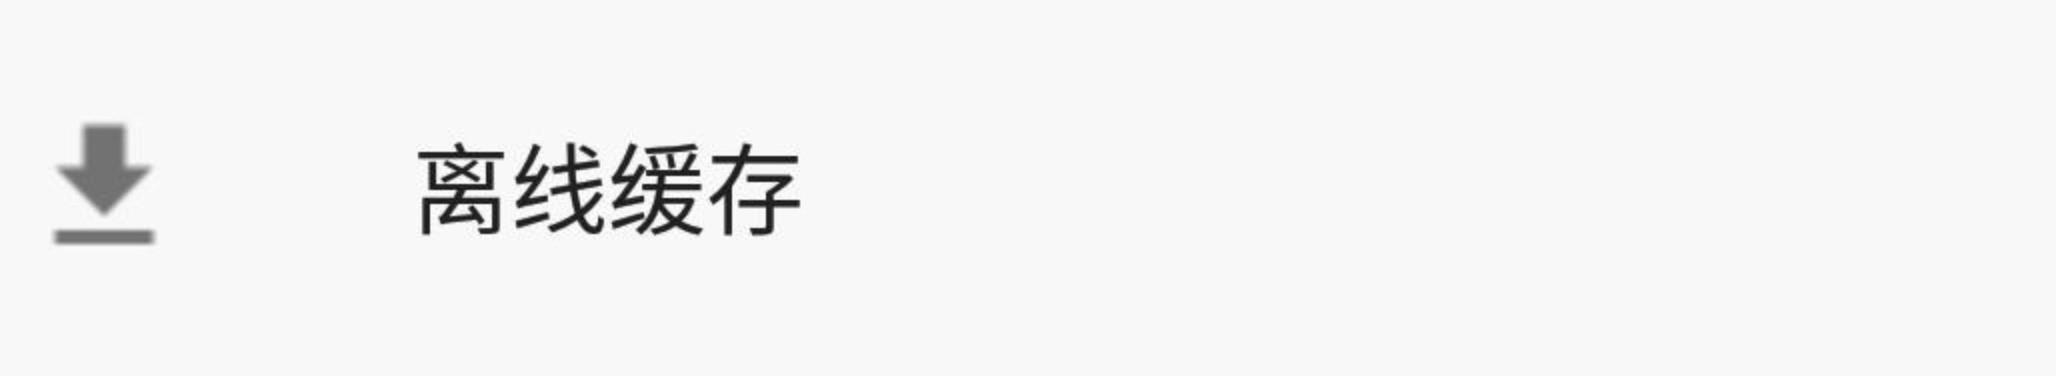CheckedTextView: (1, 1, 2055, 375)
